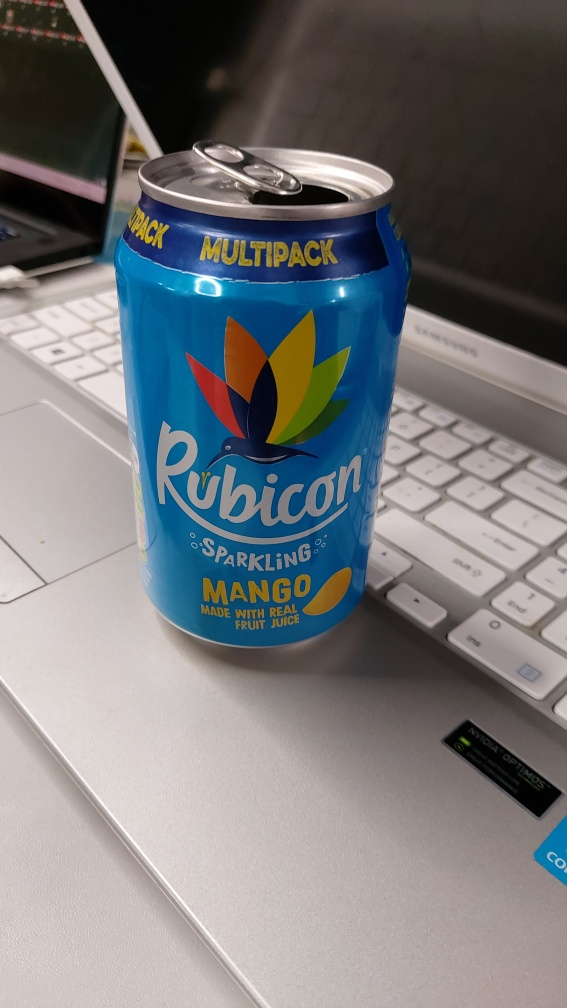can_blue: (71, 115, 443, 678)
